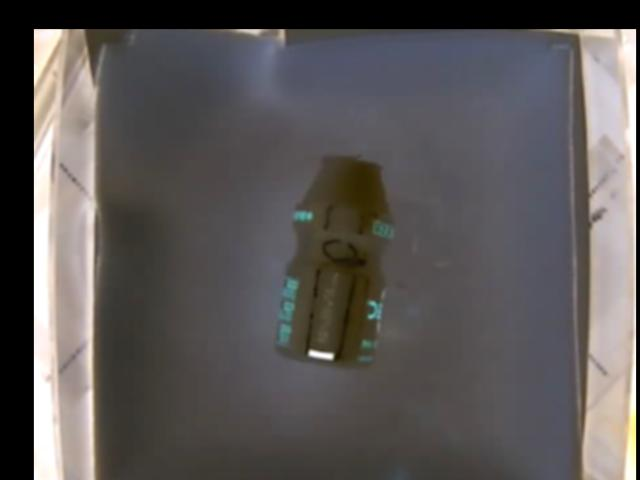Bottle: (274, 155, 391, 368)
